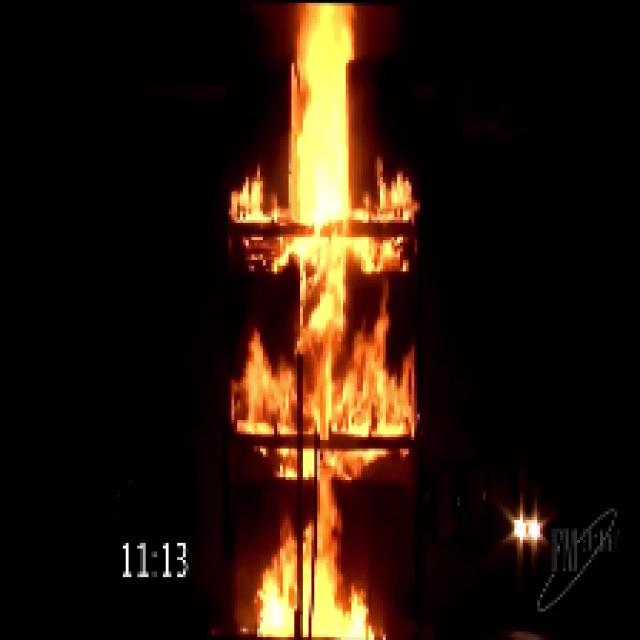fire: (267, 12, 377, 626)
